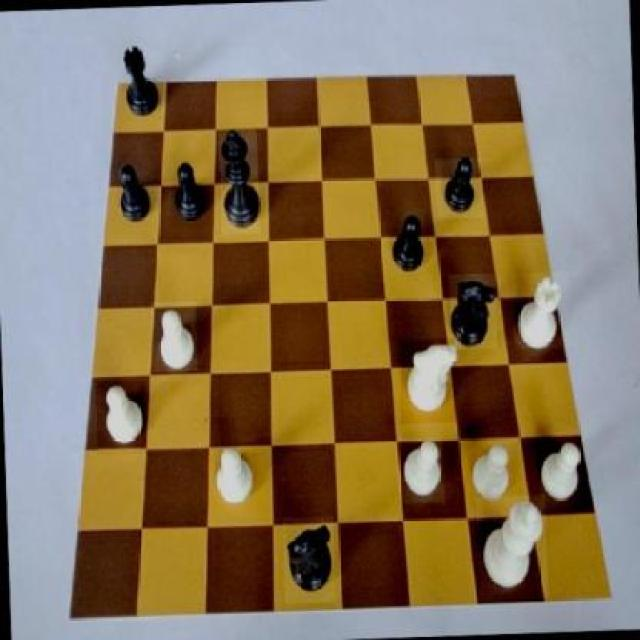black-bishop: (218, 128, 261, 235)
black-king: (283, 516, 337, 602), (449, 274, 497, 351)
black-knight: (169, 150, 209, 228), (435, 157, 483, 218), (111, 162, 154, 230), (385, 208, 427, 274)
black-queen: (117, 38, 160, 121)
white-bishop: (477, 494, 549, 600)
white-king: (398, 338, 458, 424)
white-knight: (97, 380, 148, 456), (471, 436, 522, 508), (150, 302, 198, 372), (209, 443, 259, 510), (540, 438, 586, 508), (398, 438, 446, 504)
white-queen: (512, 272, 570, 350)
